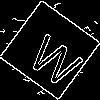W: (24, 25, 90, 90)
